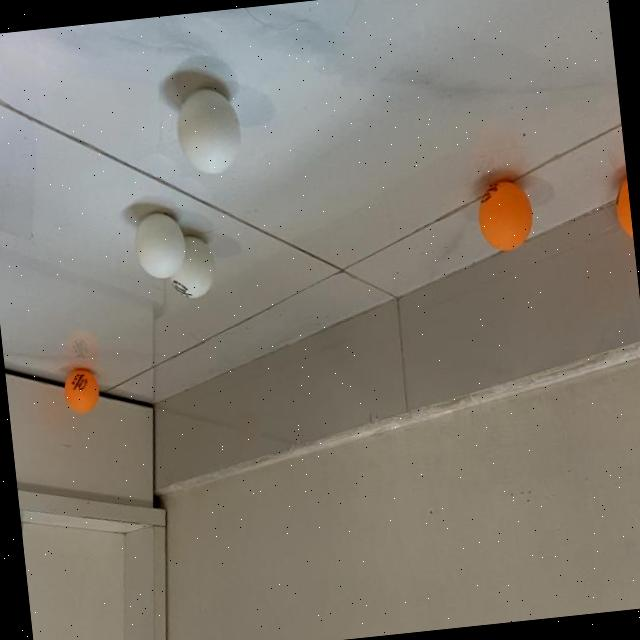ping-pong-ball: (171, 86, 243, 178), (476, 176, 535, 252), (162, 232, 216, 302), (132, 211, 188, 278), (60, 368, 100, 416), (612, 172, 634, 244)
